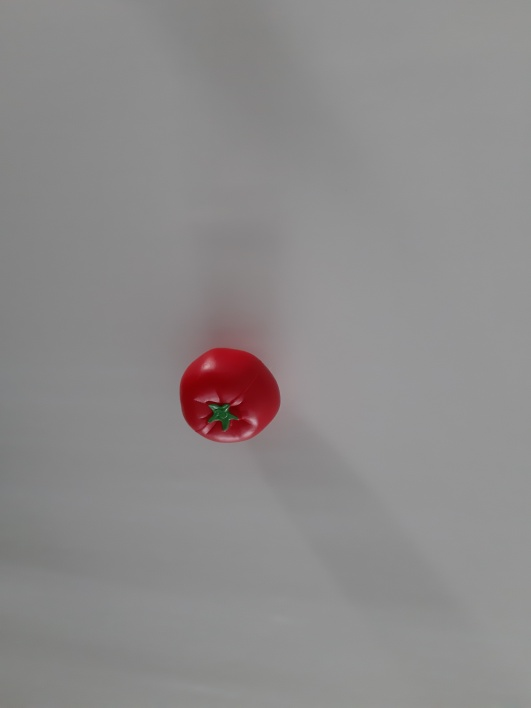tomato: (170, 337, 286, 453)
